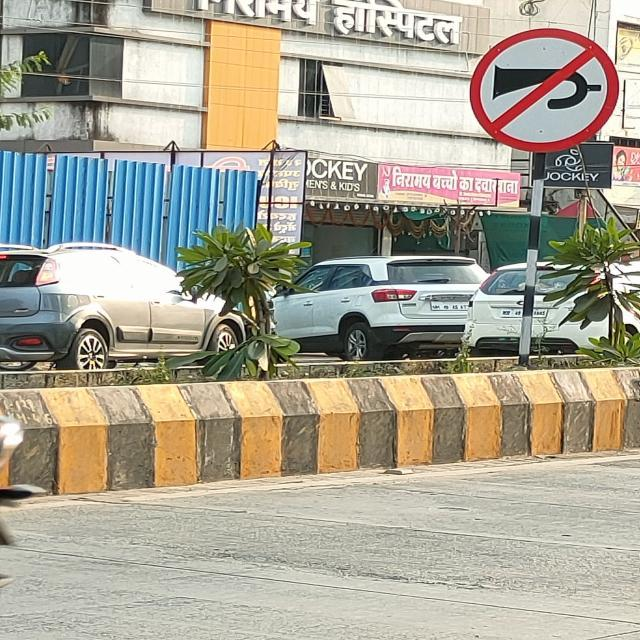horn prohibited: (465, 26, 617, 152)
